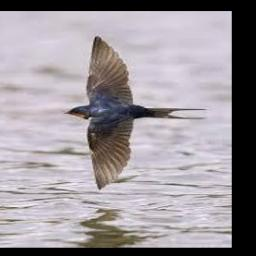Swallow: (65, 36, 208, 190)
